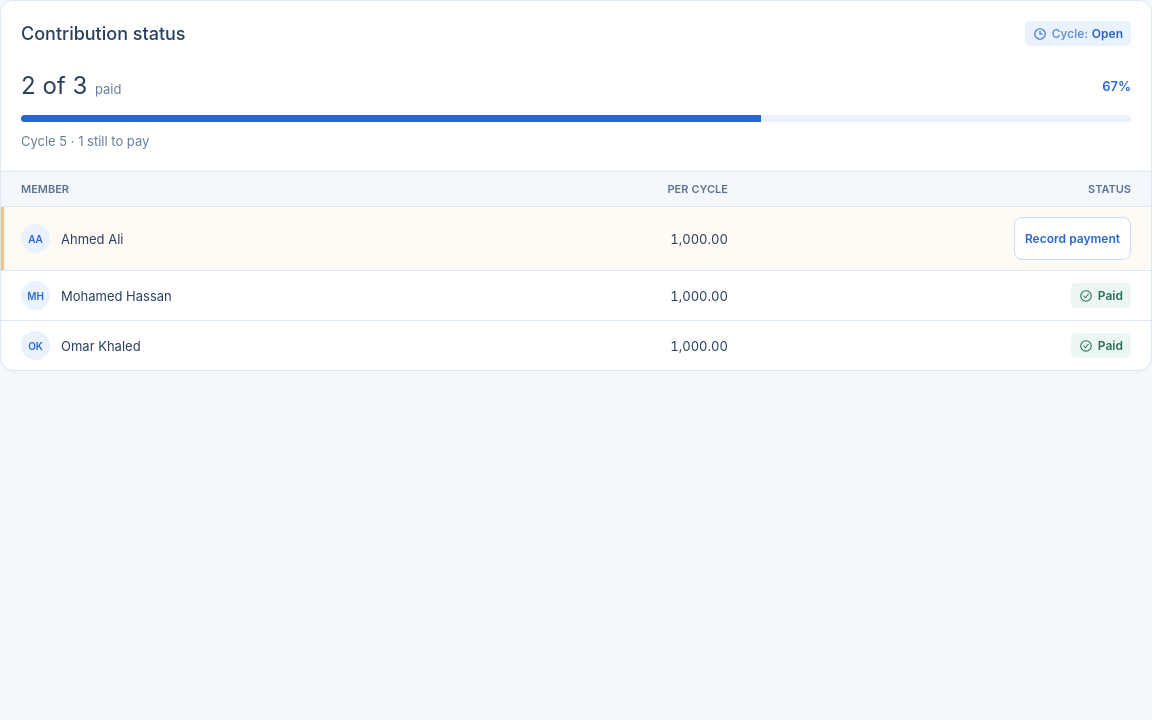
Record payment › warns when the last missing contribution will trigger the payout
Click the button with aria-label "Record payment for Ahmed Ali" at (1072, 238), box [1014, 217, 1131, 260]
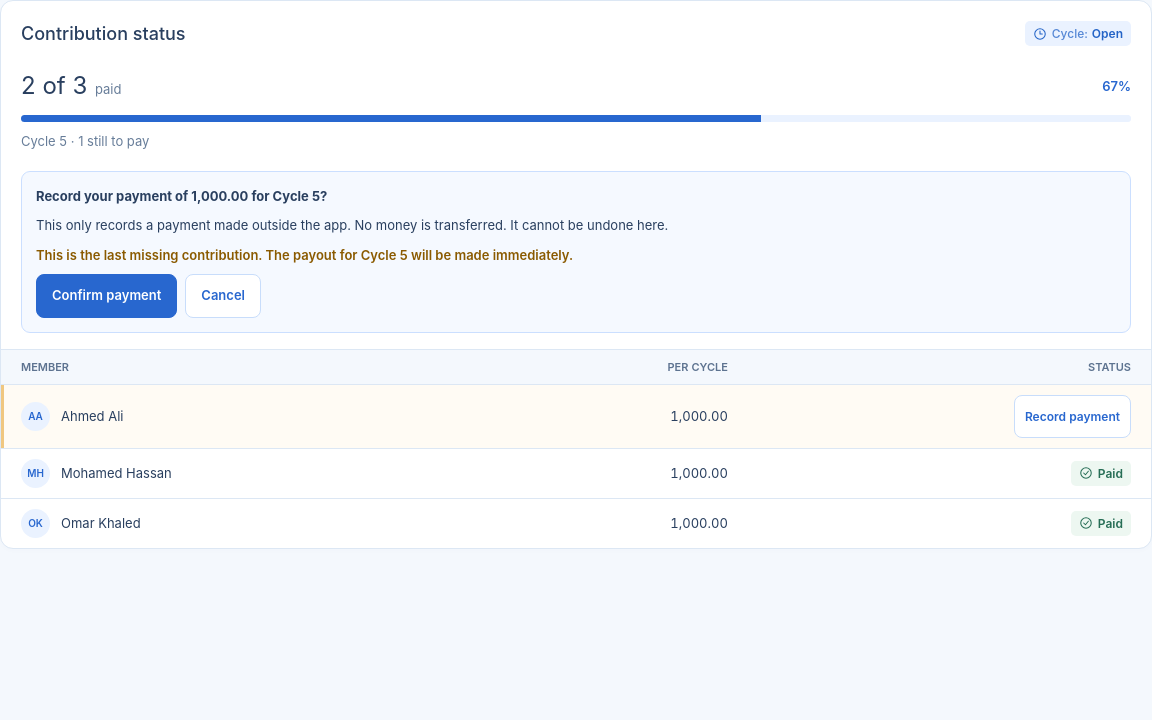
Result: the text "last missing contribution" is shown at [36, 247, 396, 263]
